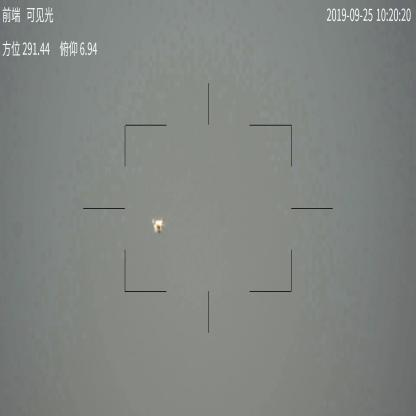uav: (150, 217, 168, 236)
